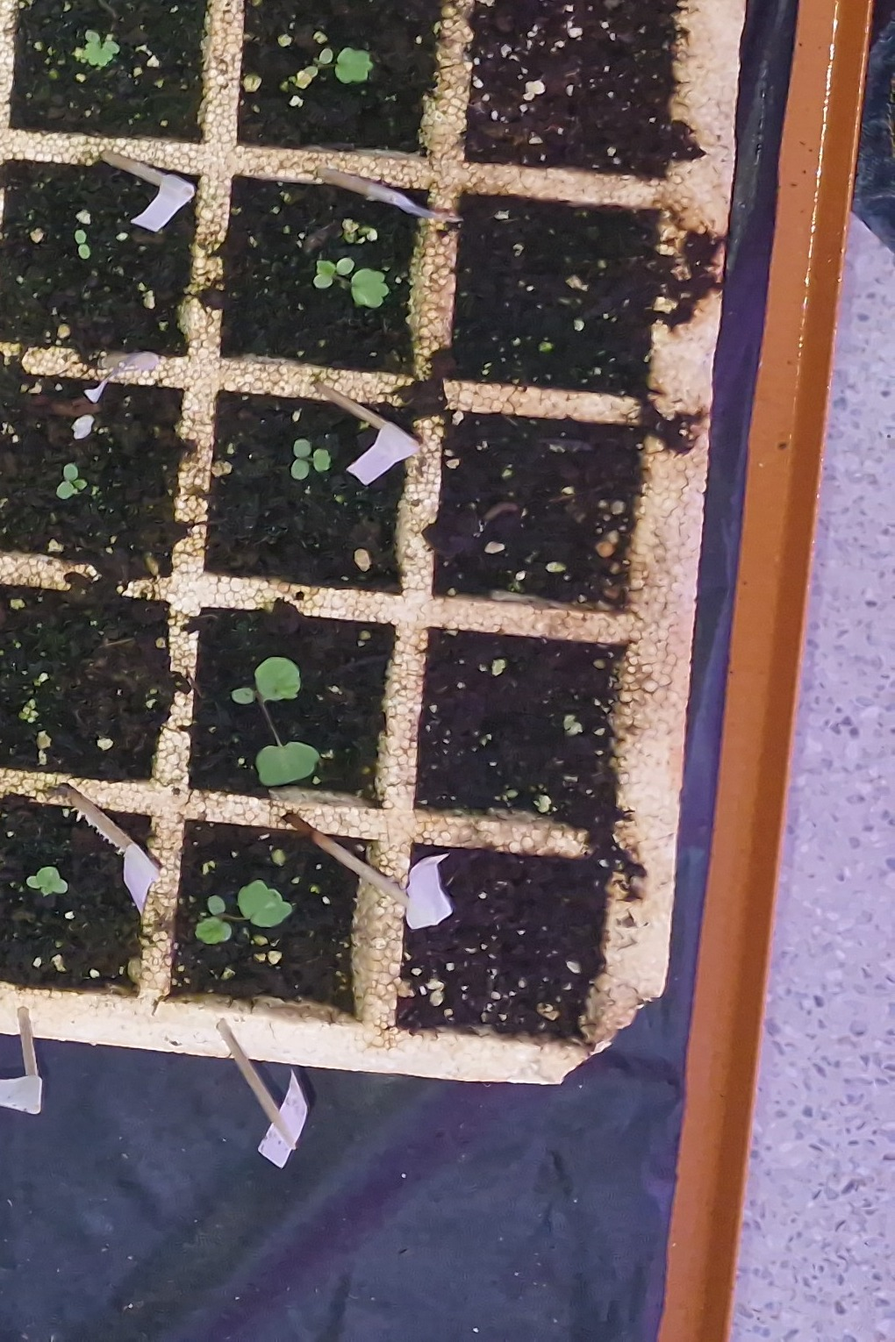Folha: (255, 742, 320, 786), (238, 880, 292, 927), (254, 657, 300, 701), (352, 269, 389, 307), (336, 48, 372, 84), (196, 917, 232, 944), (36, 868, 67, 893), (84, 42, 113, 67), (313, 448, 331, 472), (291, 458, 309, 480), (232, 687, 254, 703), (207, 896, 225, 915), (294, 439, 311, 457), (337, 258, 354, 275), (317, 261, 335, 277), (57, 482, 74, 498), (313, 274, 332, 288), (103, 41, 120, 55), (64, 463, 78, 480), (319, 48, 333, 64), (85, 30, 99, 43), (27, 876, 41, 888), (303, 66, 318, 77), (75, 230, 86, 244), (74, 479, 87, 490), (80, 244, 90, 258)
Germinacao: (232, 657, 320, 785), (196, 880, 292, 944), (314, 258, 389, 307), (304, 48, 372, 83), (291, 439, 331, 480), (83, 30, 120, 66), (27, 867, 69, 896), (57, 464, 87, 500), (76, 230, 90, 259)
